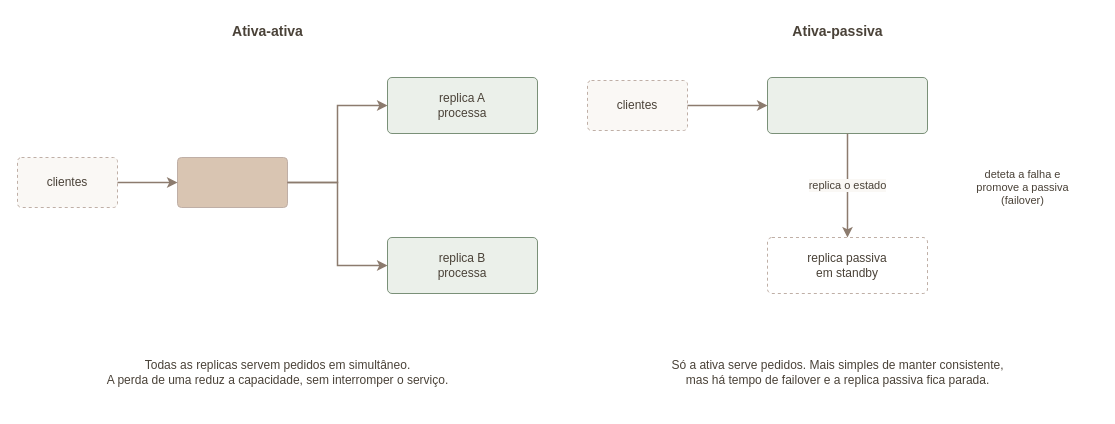
The diagram is 1115 pixels wide and 424 high, and some of its shapes have lost their labels. The centre of each missing label's shape, as x and y in pixels:
"load balancer" belongs at (x=232, y=182).
"replica ativa processa" belongs at (x=847, y=105).
